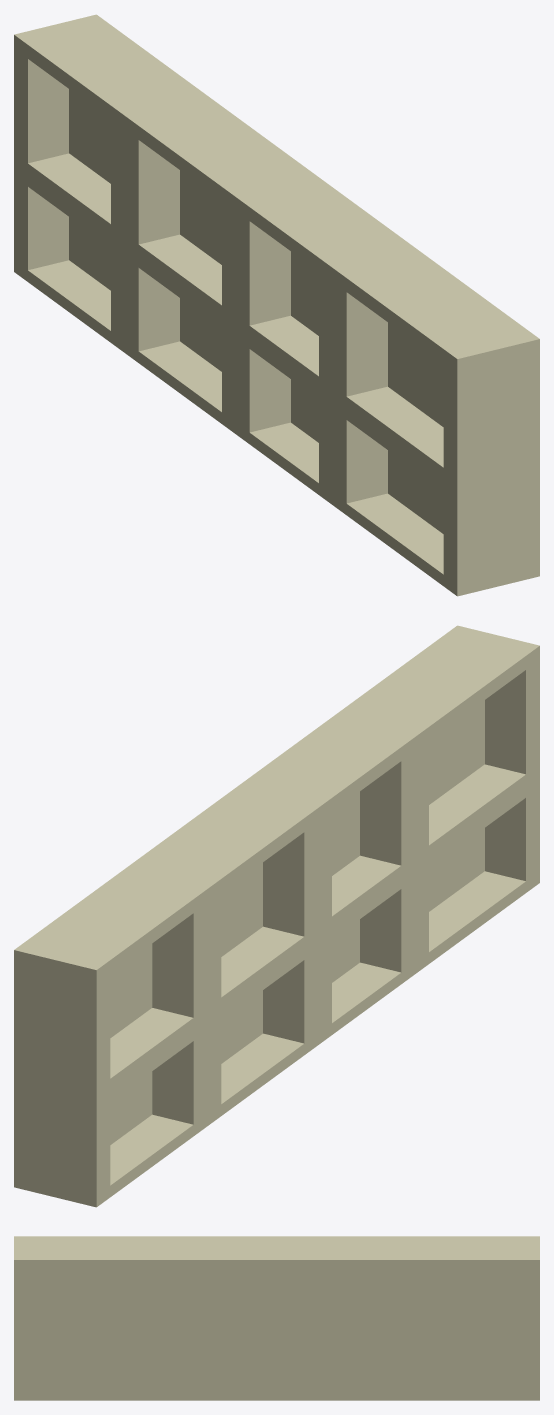
The model's file is Shelf_Long.fbx.
3 renders of one model, top to bottom at view 1: azimuth 30°, elevation 25°; view 2: azimuth 150°, elevation 25°; view 3: azimuth 270°, elevation 25°, orthographic. The views are drawn at different scales.
Visible parts, largest first — view 1: Shelf_Long; view 2: Shelf_Long; view 3: Shelf_Long.
Boxes of the visible parts, x1,y1,x2,y2 form: Shelf_Long: [14, 14, 539, 596]; Shelf_Long: [14, 625, 539, 1207]; Shelf_Long: [14, 1236, 539, 1400].
Bounding box in the file's own units: 106 × 291 × 986.
